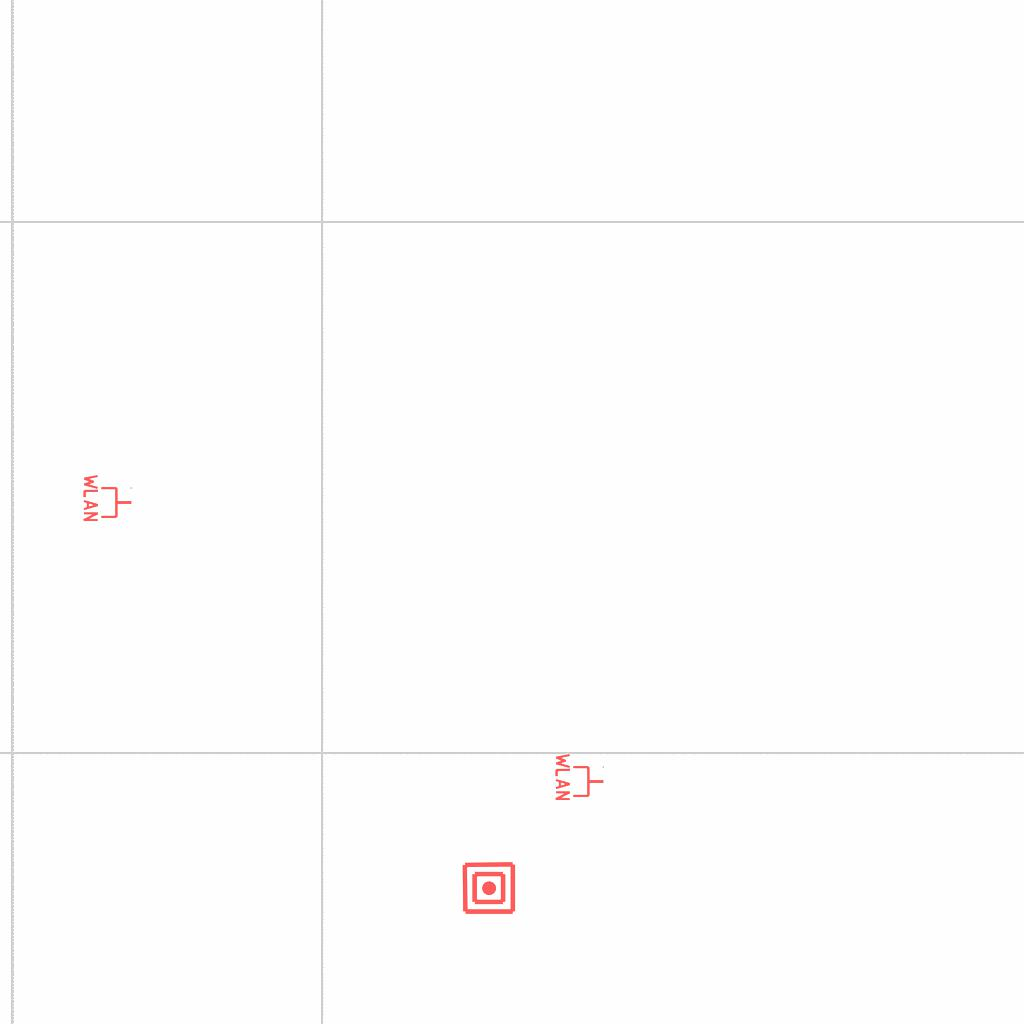NAM-Nichtautomatischer_Melder: (461, 860, 517, 916)
WLAN: (554, 751, 606, 803), (82, 472, 134, 524)
